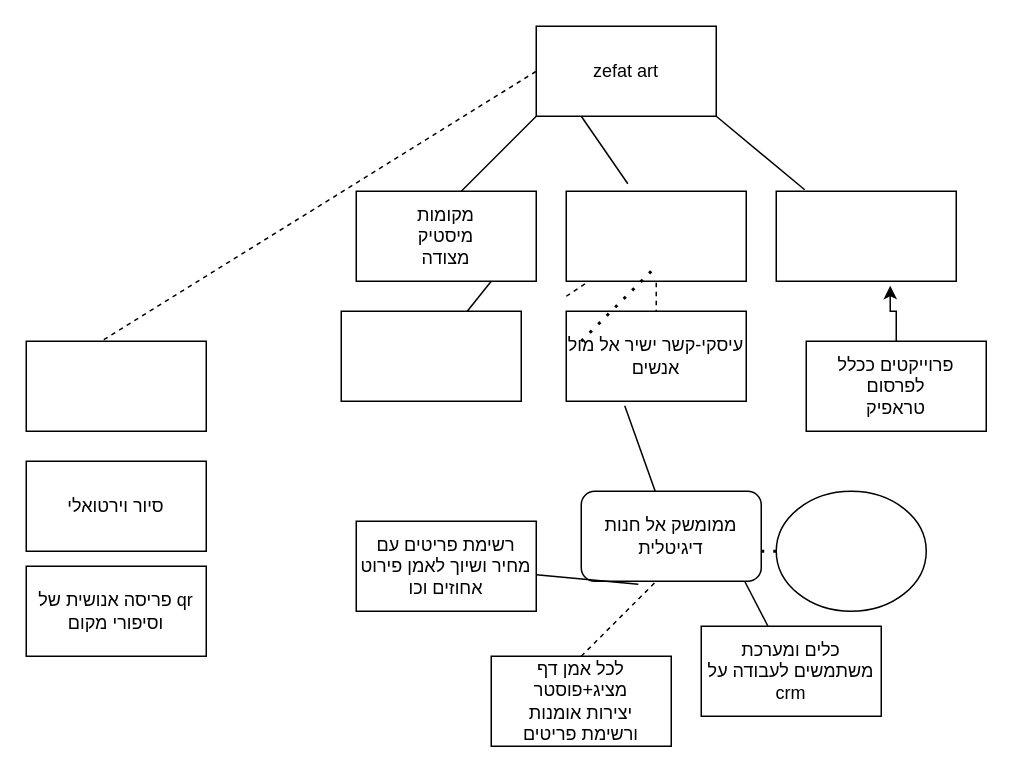
The diagram is 1013 pixels wide and 773 high, and some of its shapes have lost their labels. Each missing label, with the centre of its shape:
אנשים סדנאות שמעבירות אדם אמנים: (x=655, y=235)
גלריות אירועים: (x=865, y=235)
דאטה בייס של מיקום - ואולי קישור לתוכן תמונה סיפור ושם: (x=430, y=355)
מפה ויזואל של צפת שעליה ניזרקים אירועים: (x=115, y=385)
צריך לחשוב אם ניתן להצטרף בצורה אוטומטית או לפנות אלינו: (x=850, y=550)
